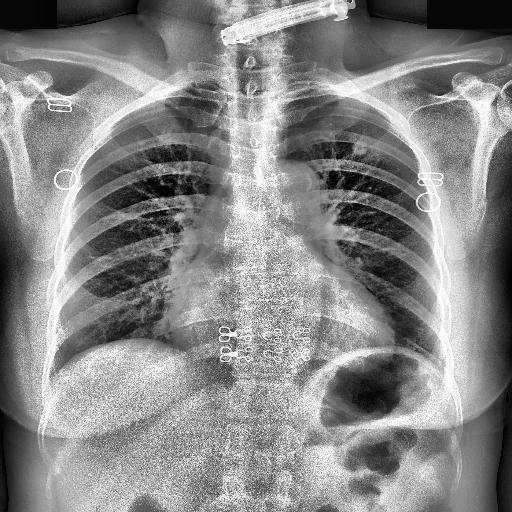0- Aortic enlargement: (252, 160, 320, 226), (258, 160, 318, 212), (274, 159, 320, 219)
3- Cardiomegaly: (164, 284, 399, 356), (167, 300, 395, 370)
8- Nodule-Mass: (352, 140, 368, 156), (352, 140, 367, 156)
